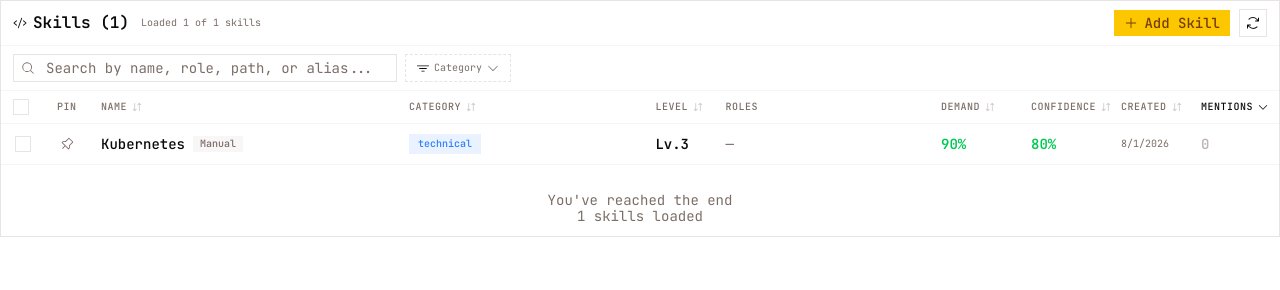
Test case: SkillsPage › clears the selection with the bulk bar Clear button
The width and height of the screenshot is (1280, 290).
Click the checkbox named "Select all skills" at (21, 107), box [13, 99, 29, 115]
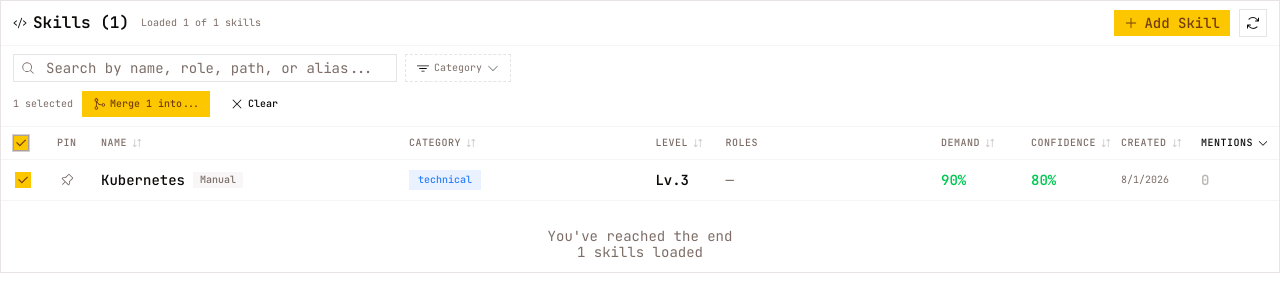
Check: the text "1 selected" is shown, box [13, 98, 73, 110]
Click the button "Clear" at (254, 104), box [219, 90, 289, 118]
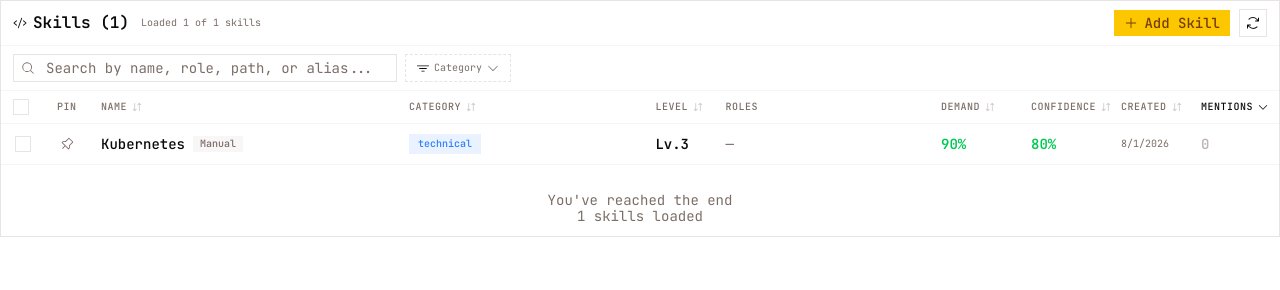
Check: the text "selected" is gone
